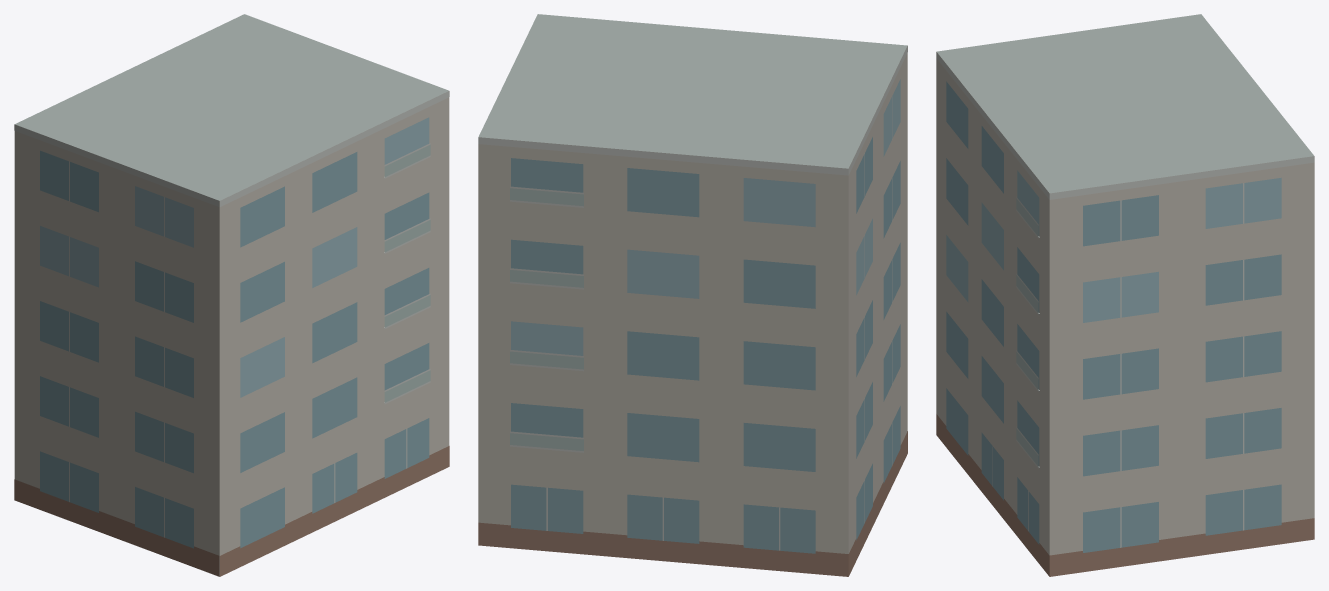
File: survey-upis-32701471.glb
The picture shows the model from 3 angles, left to right: view 1: azimuth 30°, elevation 25°; view 2: azimuth 150°, elevation 25°; view 3: azimuth 270°, elevation 25°; orthographic projection. The views are drawn at different scales.
Visible parts, largest first — view 1: survey-upis-32701471.tmp; view 2: survey-upis-32701471.tmp; view 3: survey-upis-32701471.tmp.
Part boxes in pixels (x1,y1,x2,y2): survey-upis-32701471.tmp: (14, 14, 449, 576); survey-upis-32701471.tmp: (478, 14, 907, 576); survey-upis-32701471.tmp: (936, 14, 1314, 576).
Bounding box in the file's own units: 14.47 × 14.4 × 12.88.
